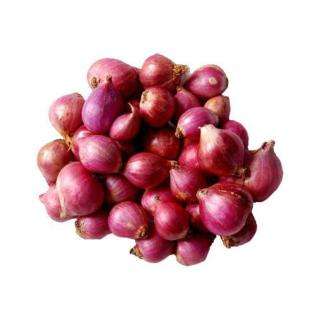Bawang Merah: (37, 54, 285, 267)
